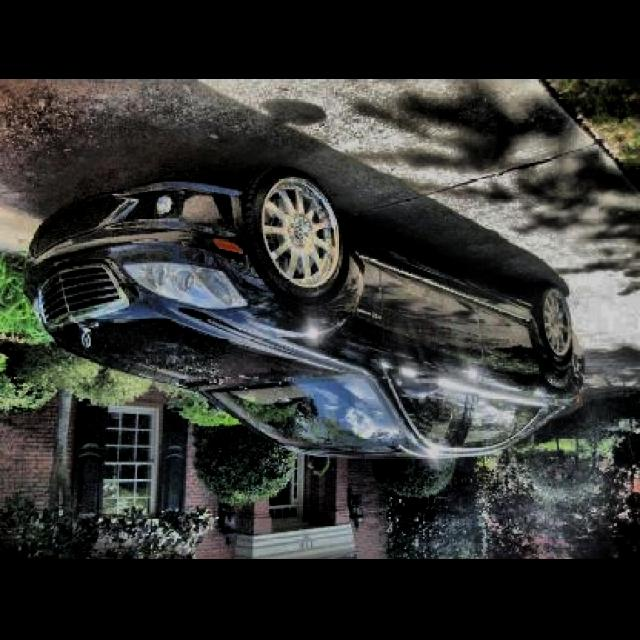black: (26, 173, 584, 463)
